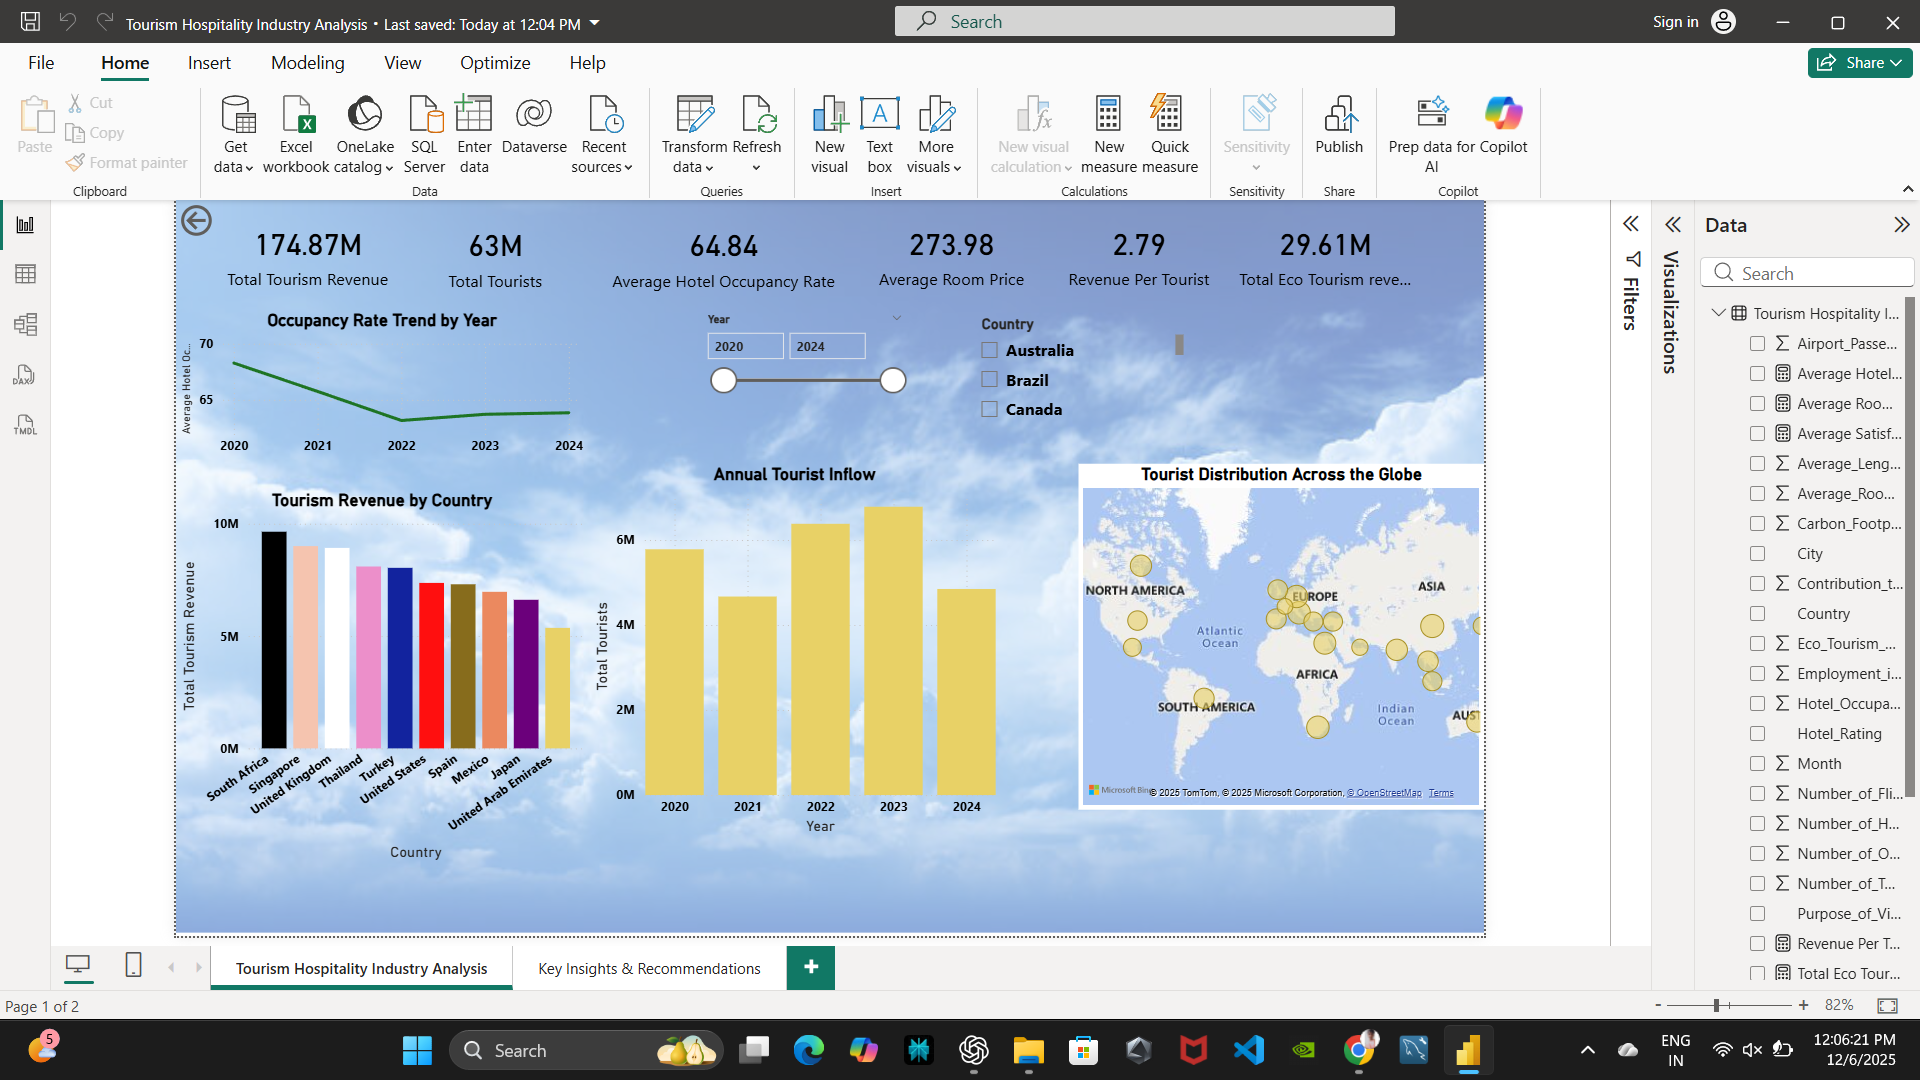

This screenshot's page, from the dashboard's own definition file:
{"tool":"powerbi","page":{"name":"Tourism Hospitality Industry Analysis","canvas":[1280,720],"ordinal":0},"visuals":[{"type":"card","fields":{"Values":["Tourism Hospitality Industry Analysis.Total Tourism Revenue"]},"box":[38.4,0,182.5,105.7],"z":0},{"type":"card","fields":{"Values":["Tourism Hospitality Industry Analysis.Total Eco Tourism revenue"]},"box":[1033.3,0,182.5,105.7],"z":1},{"type":"card","fields":{"Values":["Tourism Hospitality Industry Analysis.Revenue Per Tourist"]},"box":[850.8,0,182.5,105.7],"z":2},{"type":"card","fields":{"Values":["Tourism Hospitality Industry Analysis.Average Room Price"]},"box":[668.3,0,182.5,105.7],"z":3},{"type":"card","fields":{"Values":["Tourism Hospitality Industry Analysis.Average Hotel Occupancy Rate"]},"box":[403.4,1.4,264.8,105.7],"z":4},{"type":"card","fields":{"Values":["Tourism Hospitality Industry Analysis.Total Tourists"]},"box":[220.9,1.4,182.5,105.7],"z":5},{"type":"actionButton","box":[0,0,100,40],"z":6},{"type":"lineChart","title":"Occupancy Rate Trend by Year","fields":{"Category":["Tourism Hospitality Industry Analysis.Year"],"Y":["Tourism Hospitality Industry Analysis.Average Hotel Occupancy Rate"]},"box":[0,107,403.4,150.9],"z":7},{"type":"columnChart","title":"Tourism Revenue by Country","fields":{"Category":["Tourism Hospitality Industry Analysis.Country"],"Y":["Tourism Hospitality Industry Analysis.Total Tourism Revenue"]},"box":[0,284,403.4,367.8],"z":8},{"type":"columnChart","title":"Annual Tourist Inflow","fields":{"Category":["Tourism Hospitality Industry Analysis.Year"],"Y":["Tourism Hospitality Industry Analysis.Total Tourists"]},"box":[403.5,258,403.5,368.1],"z":9},{"type":"map","title":"Tourist Distribution Across the Globe","fields":{"Category":["Tourism Hospitality Industry Analysis.Country"],"Size":["Tourism Hospitality Industry Analysis.Total Tourists"]},"box":[882.9,258,397.4,338.7],"z":10},{"type":"slicer","fields":{"Values":["Tourism Hospitality Industry Analysis.Year"]},"box":[507.5,105.2,215.2,122.3],"z":11},{"type":"slicer","fields":{"Values":["Tourism Hospitality Industry Analysis.Country"]},"box":[775.3,107.6,215.2,122.3],"z":12}]}

Visuals, with their boxes on the page's 1280x720 design canvas (x1, y1, x2, y2). These are canvas units, not pixel positions in the 1920x1080 screenshot, which may show the page scaled, cropped or inside an application window:
card - Tourism Hospitality Industry Analysis.Total Tourism Revenue: x1=38 y1=0 x2=221 y2=106
card - Tourism Hospitality Industry Analysis.Total Eco Tourism revenue: x1=1033 y1=0 x2=1216 y2=106
card - Tourism Hospitality Industry Analysis.Revenue Per Tourist: x1=851 y1=0 x2=1033 y2=106
card - Tourism Hospitality Industry Analysis.Average Room Price: x1=668 y1=0 x2=851 y2=106
card - Tourism Hospitality Industry Analysis.Average Hotel Occupancy Rate: x1=403 y1=1 x2=668 y2=107
card - Tourism Hospitality Industry Analysis.Total Tourists: x1=221 y1=1 x2=403 y2=107
actionButton: x1=0 y1=0 x2=100 y2=40
"Occupancy Rate Trend by Year" lineChart: x1=0 y1=107 x2=403 y2=258
"Tourism Revenue by Country" columnChart: x1=0 y1=284 x2=403 y2=652
"Annual Tourist Inflow" columnChart: x1=404 y1=258 x2=807 y2=626
"Tourist Distribution Across the Globe" map: x1=883 y1=258 x2=1280 y2=597
slicer - Tourism Hospitality Industry Analysis.Year: x1=508 y1=105 x2=723 y2=228
slicer - Tourism Hospitality Industry Analysis.Country: x1=775 y1=108 x2=990 y2=230
